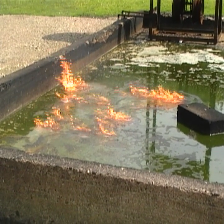fire_h: (55, 54, 110, 104), (94, 106, 131, 136), (130, 84, 183, 104), (35, 107, 63, 132)
fire_l: (68, 111, 90, 132)
